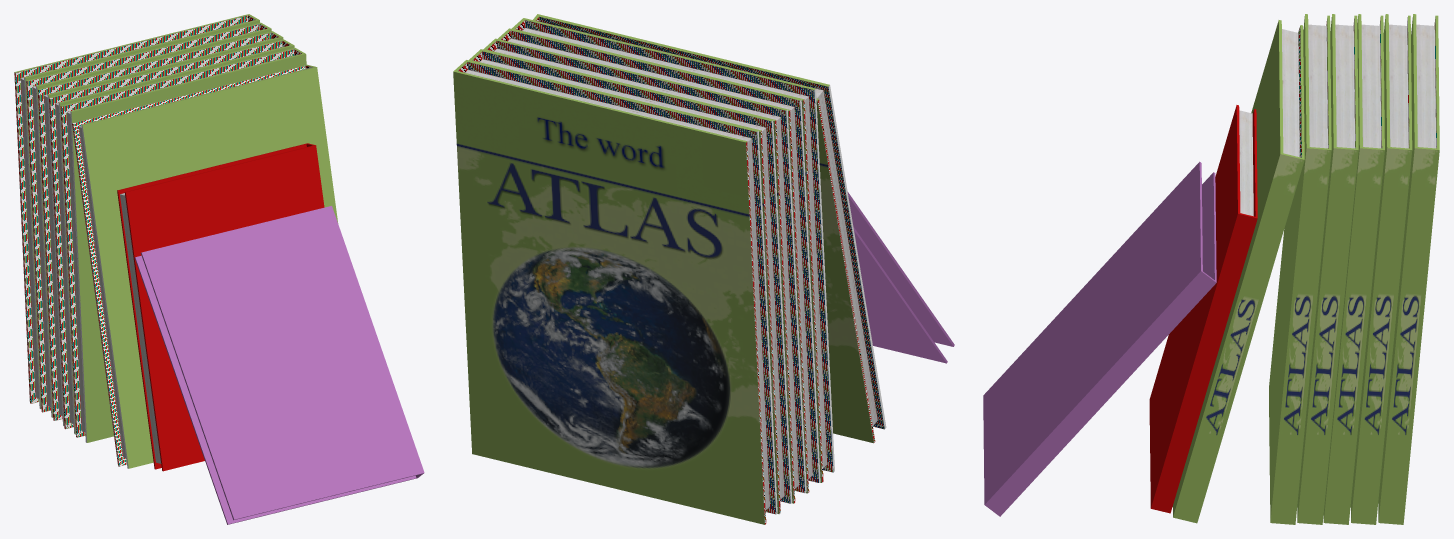
File: Books 1.FBX
3 views of the same model, side by side, from view 1: azimuth 30°, elevation 25°; view 2: azimuth 150°, elevation 25°; view 3: azimuth 270°, elevation 25° (orthographic). The views are drawn at different scales.
Parts seen in each view (by area): view 1: Books 1; view 2: Books 1; view 3: Books 1.
Part boxes in pixels (box(x1,y1,x2,y2)): Books 1: box(14, 14, 424, 524); Books 1: box(453, 14, 954, 524); Books 1: box(983, 14, 1439, 524).
Bounding box in the file's own units: 23.25 × 30.5 × 33.25.
